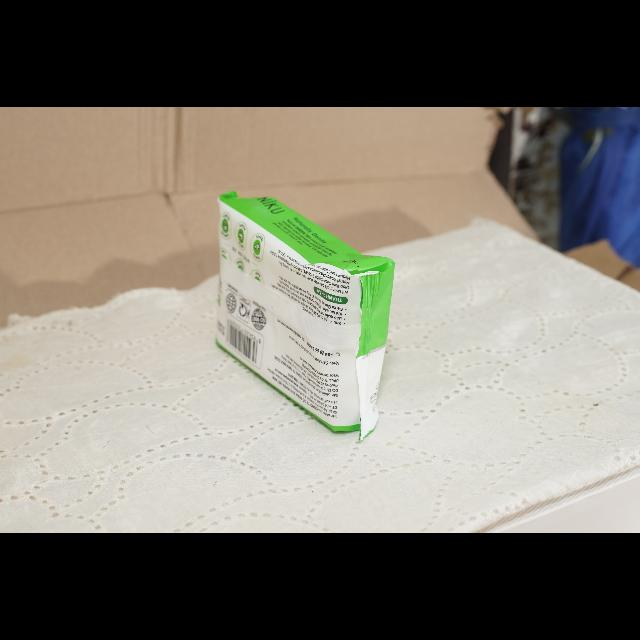khan_giay: (217, 192, 394, 439)
